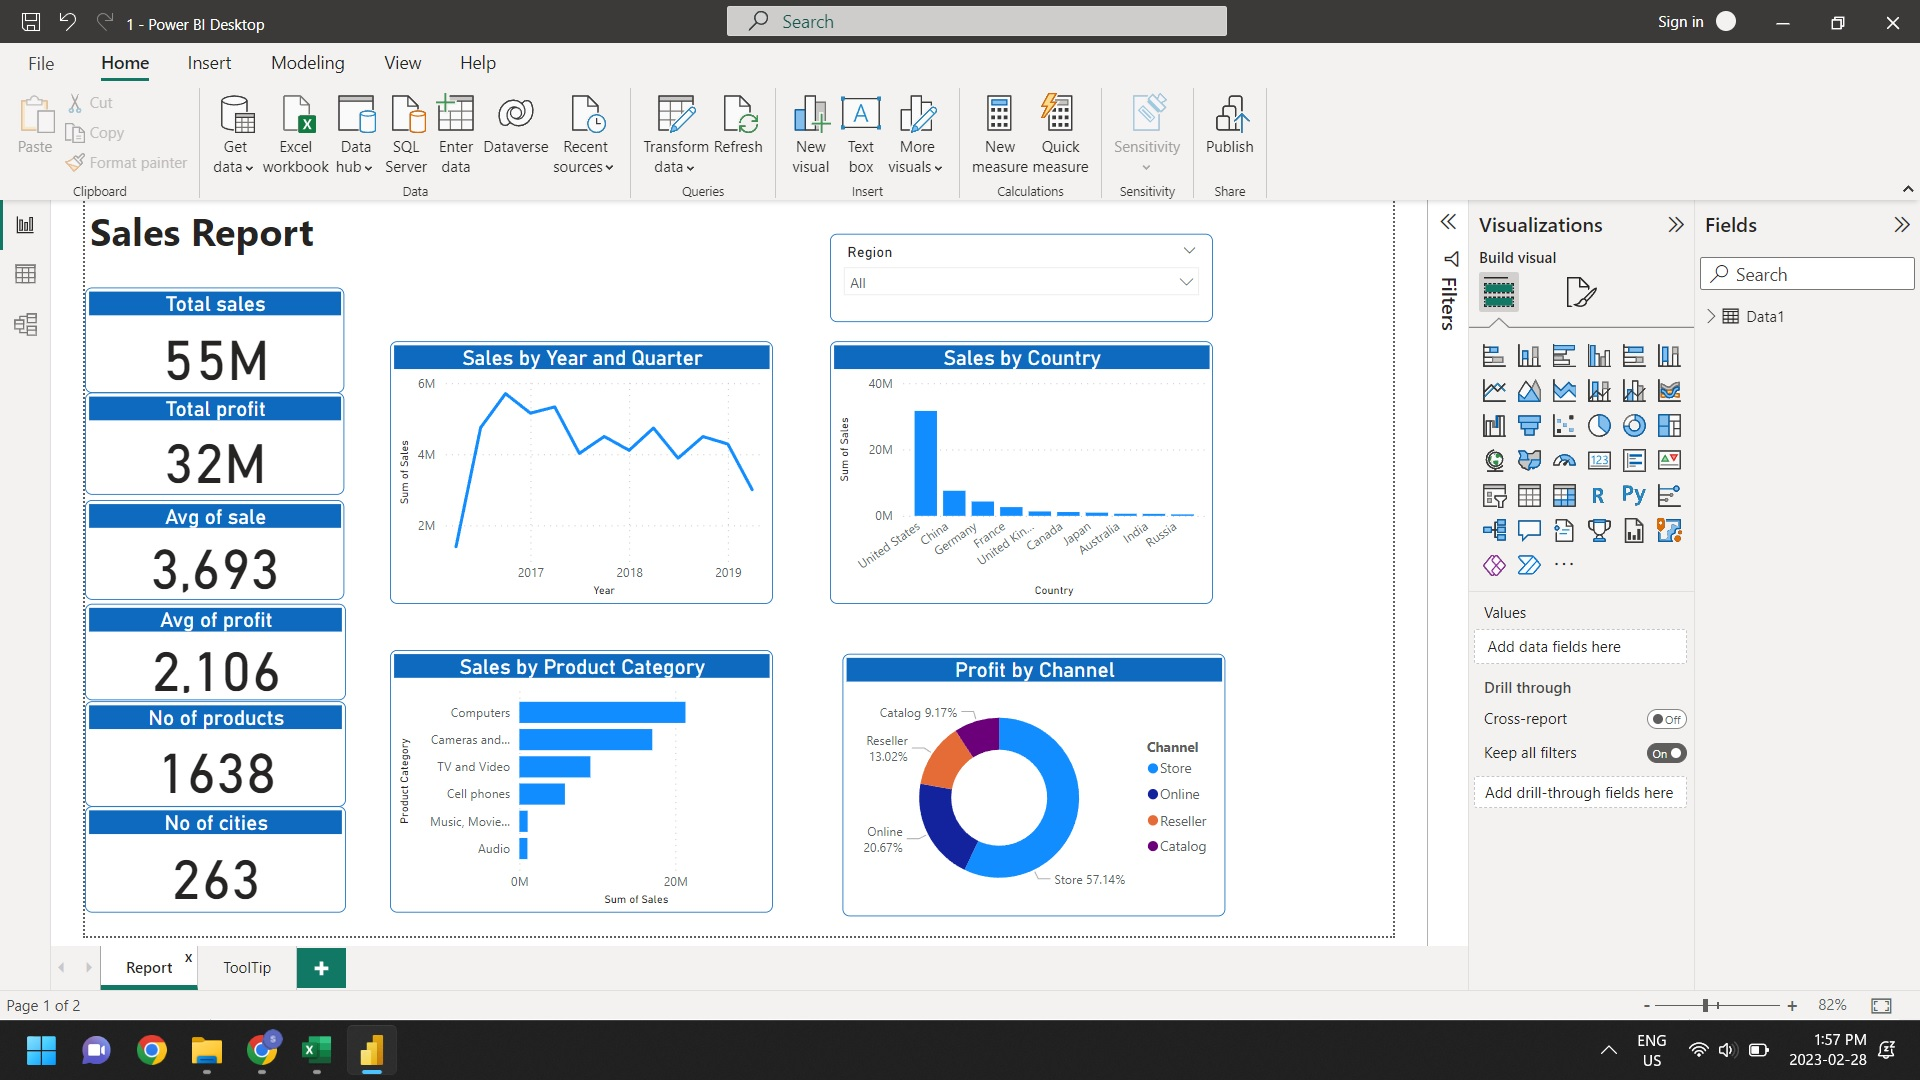

This screenshot's page, from the dashboard's own definition file:
{"tool":"powerbi","page":{"name":"Report","canvas":[1280,720],"ordinal":0},"visuals":[{"type":"card","title":"Total sales","fields":{"Values":["Sum(Data1.Sales)"]},"box":[0,85.1,253.9,102.9],"z":0},{"type":"card","title":"Avg of sale","fields":{"Values":["Avg(Data1.Sales)"]},"box":[0,293,253.9,97.4],"z":1000},{"type":"card","title":"Avg of profit","fields":{"Values":["Avg(Data1.Profit)"]},"box":[0,395.2,255.2,94.7],"z":2000},{"type":"card","title":"Total profit","fields":{"Values":["Sum(Data1.Profit)"]},"box":[0,188,253.9,100.2],"z":3000},{"type":"card","title":"No of products","fields":{"Values":["Count(Data1.Product Name)"]},"box":[0,489.9,255.2,102.9],"z":4000},{"type":"card","title":"No of cities","fields":{"Values":["Count(Data1.City)"]},"box":[0,592.8,255.2,104.3],"z":5000},{"type":"textbox","box":[0,0,321.1,64.5],"z":6000},{"type":"lineChart","title":"Sales by Year and Quarter","fields":{"Category":["Data1.Order Date.Variation.Date Hierarchy.Year","Data1.Order Date.Variation.Date Hierarchy.Quarter"],"Y":["Sum(Data1.Sales)"]},"box":[297.8,138.6,374.6,256.6],"z":7000},{"type":"barChart","title":"Sales by Product Category","fields":{"Y":["Sum(Data1.Sales)"],"Category":["Data1.Product Category"]},"box":[297.8,440.5,374.6,256.6],"z":8000},{"type":"clusteredColumnChart","title":"Sales by Country","fields":{"Category":["Data1.Country"],"Y":["Sum(Data1.Sales)"]},"box":[728.6,138.6,374.6,256.6],"z":9000},{"type":"donutChart","title":"Profit by Channel","fields":{"Y":["Sum(Data1.Profit)"],"Category":["Data1.Channel"]},"box":[741,443.2,374.6,256.6],"z":10000},{"type":"slicer","fields":{"Values":["Data1.Region"]},"box":[728.6,32.9,374.6,86.4],"z":11000}]}

Visuals, with their boxes on the page's 1280x720 design canvas (x1, y1, x2, y2). These are canvas units, not pixel positions in the 1920x1080 screenshot, which may show the page scaled, cropped or inside an application window:
"Total sales" card: x1=0, y1=85, x2=254, y2=188
"Avg of sale" card: x1=0, y1=293, x2=254, y2=390
"Avg of profit" card: x1=0, y1=395, x2=255, y2=490
"Total profit" card: x1=0, y1=188, x2=254, y2=288
"No of products" card: x1=0, y1=490, x2=255, y2=593
"No of cities" card: x1=0, y1=593, x2=255, y2=697
textbox: x1=0, y1=0, x2=321, y2=64
"Sales by Year and Quarter" lineChart: x1=298, y1=139, x2=672, y2=395
"Sales by Product Category" barChart: x1=298, y1=440, x2=672, y2=697
"Sales by Country" clusteredColumnChart: x1=729, y1=139, x2=1103, y2=395
"Profit by Channel" donutChart: x1=741, y1=443, x2=1116, y2=700
slicer - Data1.Region: x1=729, y1=33, x2=1103, y2=119
